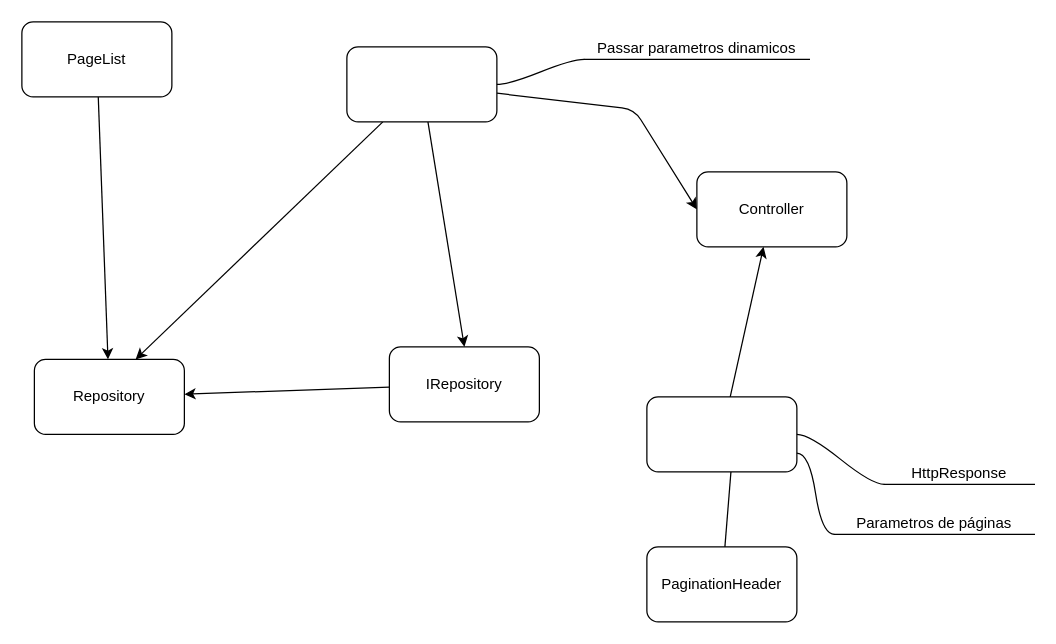
The diagram is 1056 pixels wide and 644 high, and some of its shapes have lost their labels. Each missing label, with the centre of its shape:
"Extensions" belongs at (x=721, y=434).
"PageParams" belongs at (x=421, y=84).
